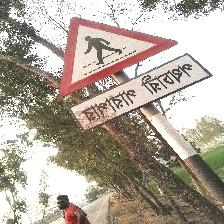Pedestrian-crossing: (60, 17, 214, 132)
